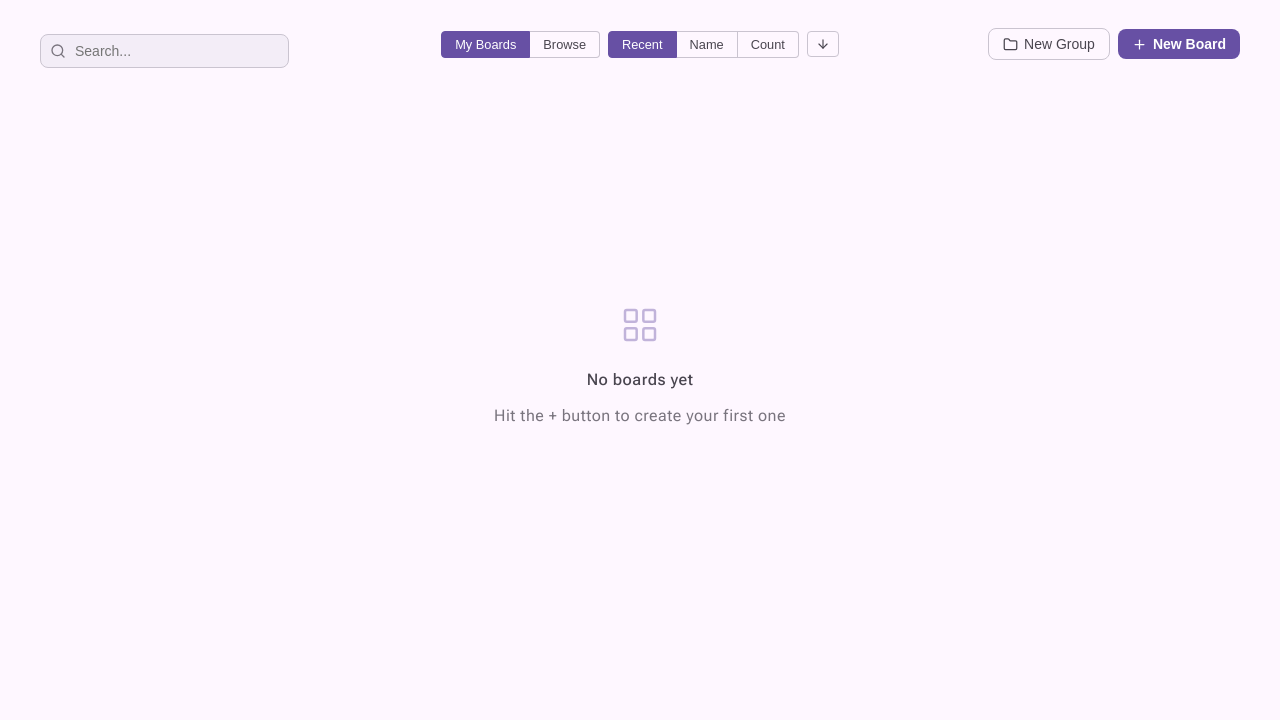
Test: BoardSelector — member search Firestore query › filters out the current user from search results
Click the button "New Board" at point(1179, 44), box [1118,29,1240,59]
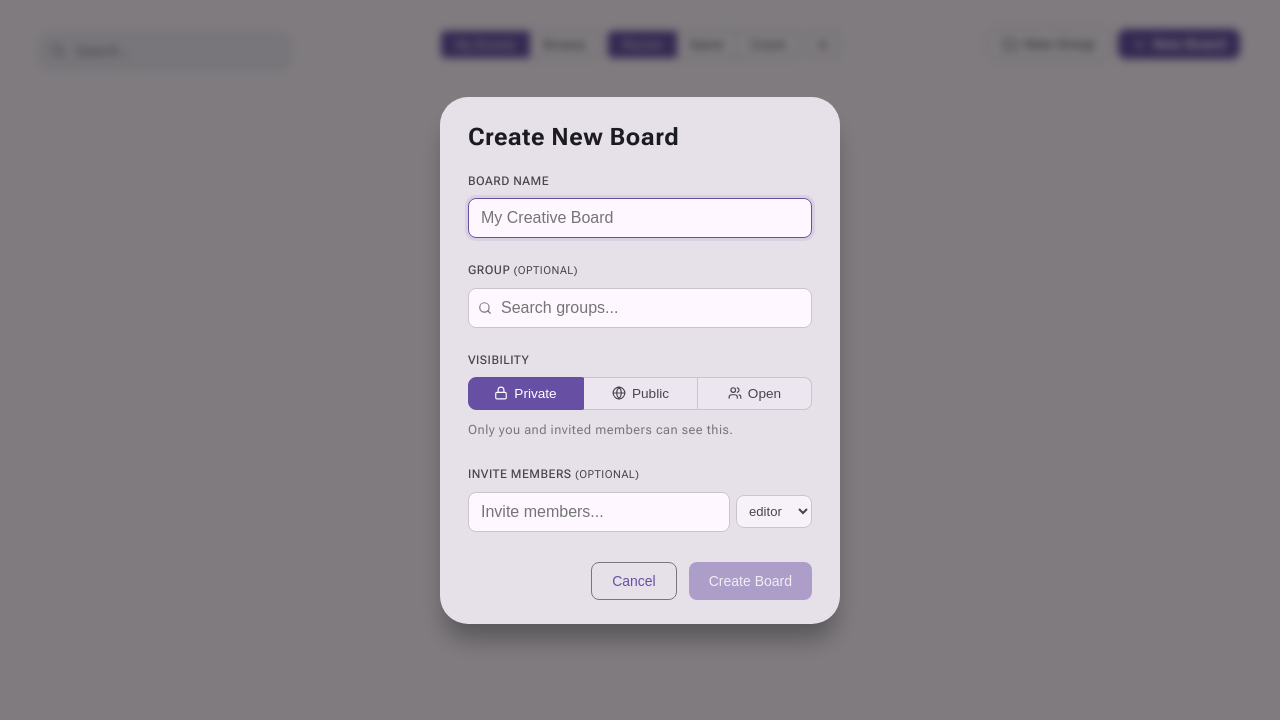
Type "o" into the field with placeholder "Invite members..." at point(599, 512), box [468,492,730,532]
Wait 300 ms
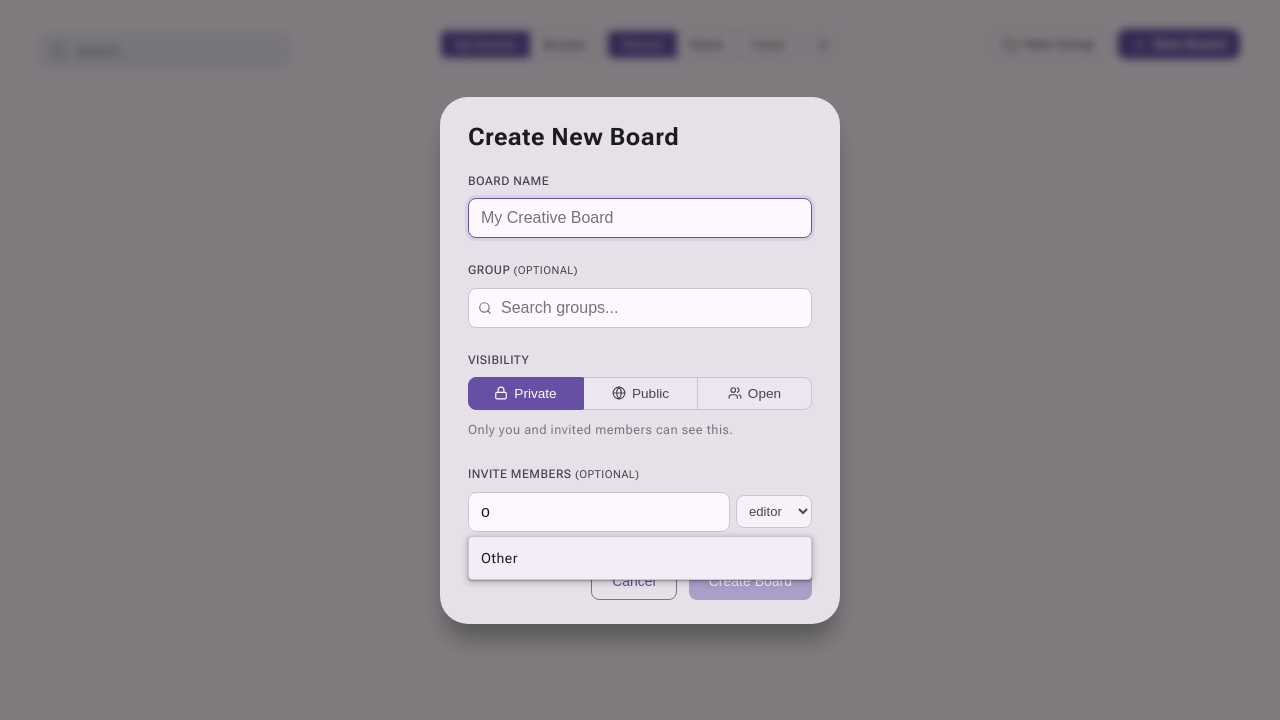
expect the text "Other" is shown: met, box [481,546,518,570]
